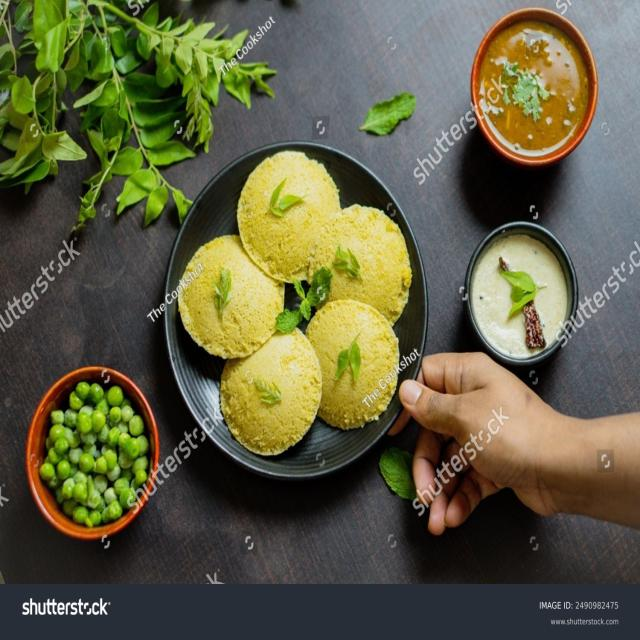IDLI: (237, 151, 340, 280), (177, 235, 284, 358), (308, 205, 412, 326), (221, 330, 321, 455), (303, 300, 399, 429)
